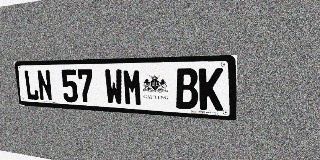5: (61, 69, 79, 103)
7: (76, 69, 95, 104)
B: (175, 68, 198, 110)
K: (199, 68, 223, 111)
L: (23, 70, 39, 101)
M: (122, 69, 143, 106)
N: (36, 70, 53, 101)
W: (104, 69, 124, 105)
